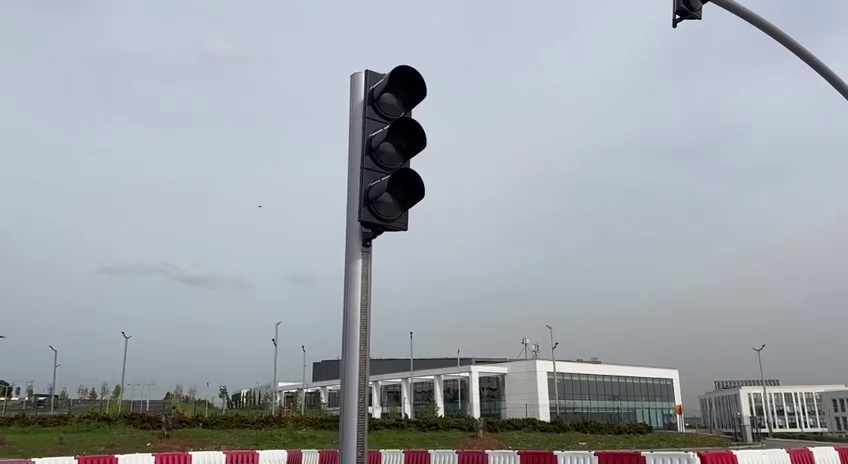trafficLight: (341, 59, 428, 237), (670, 1, 706, 29)
